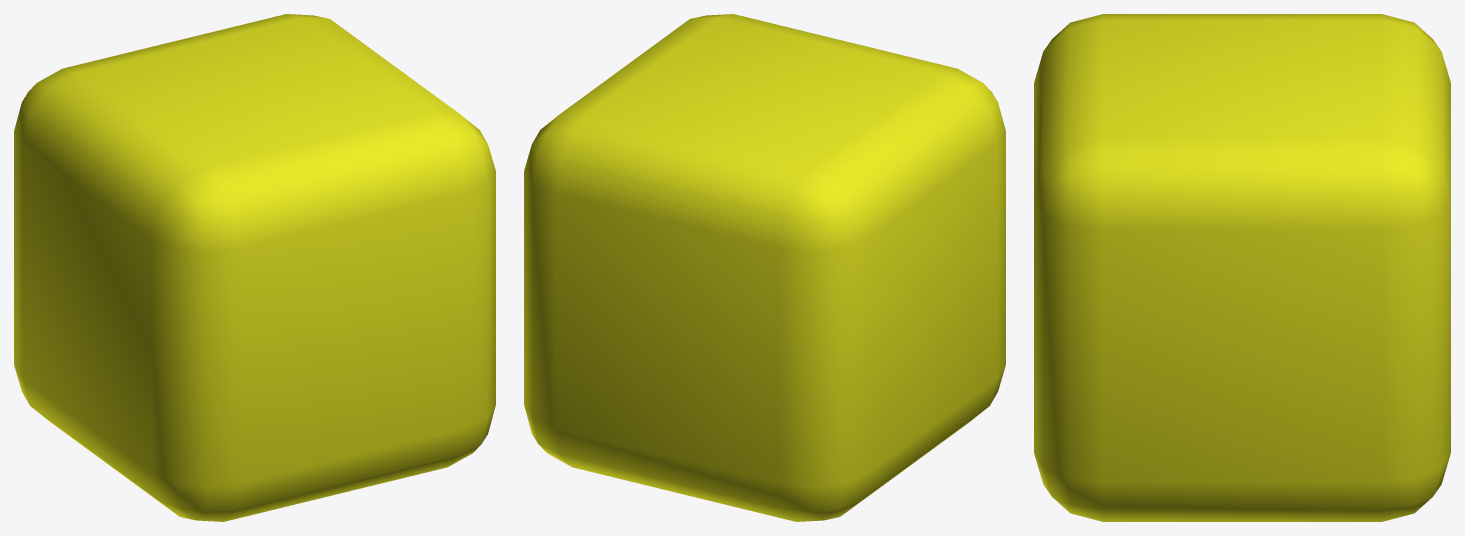
3 views of the same model, side by side, from view 1: azimuth 30°, elevation 25°; view 2: azimuth 150°, elevation 25°; view 3: azimuth 270°, elevation 25° (orthographic). The views are drawn at different scales.
Parts seen in each view (by area): view 1: Cube; view 2: Cube; view 3: Cube.
Part boxes in pixels (box(x1,y1,x2,y2)): Cube: box(14, 14, 495, 521); Cube: box(524, 14, 1005, 521); Cube: box(1034, 14, 1450, 521).
Bounding box in the file's own units: 200 × 200 × 200.
